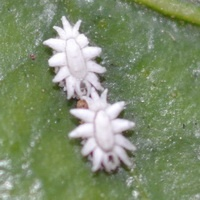insect: (69, 88, 135, 171), (43, 16, 105, 98)
